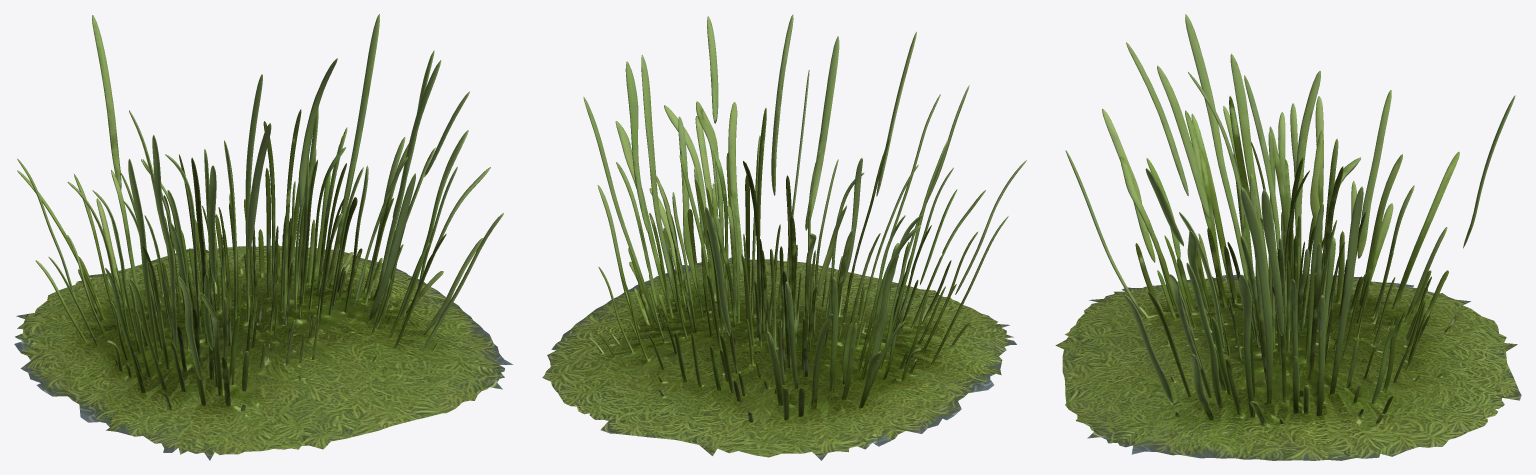
Rendered from hairgrass.glb.
The picture shows the model from 3 angles, left to right: view 1: azimuth 30°, elevation 25°; view 2: azimuth 150°, elevation 25°; view 3: azimuth 270°, elevation 25°; orthographic projection. The views are drawn at different scales.
Parts seen in each view (by area): view 1: node_0; view 2: node_0; view 3: node_0.
Part boxes in pixels (left/top/right/bottom): node_0: left=14, top=14, right=513, bottom=460; node_0: left=542, top=14, right=1026, bottom=460; node_0: left=1055, top=14, right=1521, bottom=460.
Size of the model in its own units: 0.779 by 0.6039 by 0.8142.
Materials: 1 (1 with a texture image).
